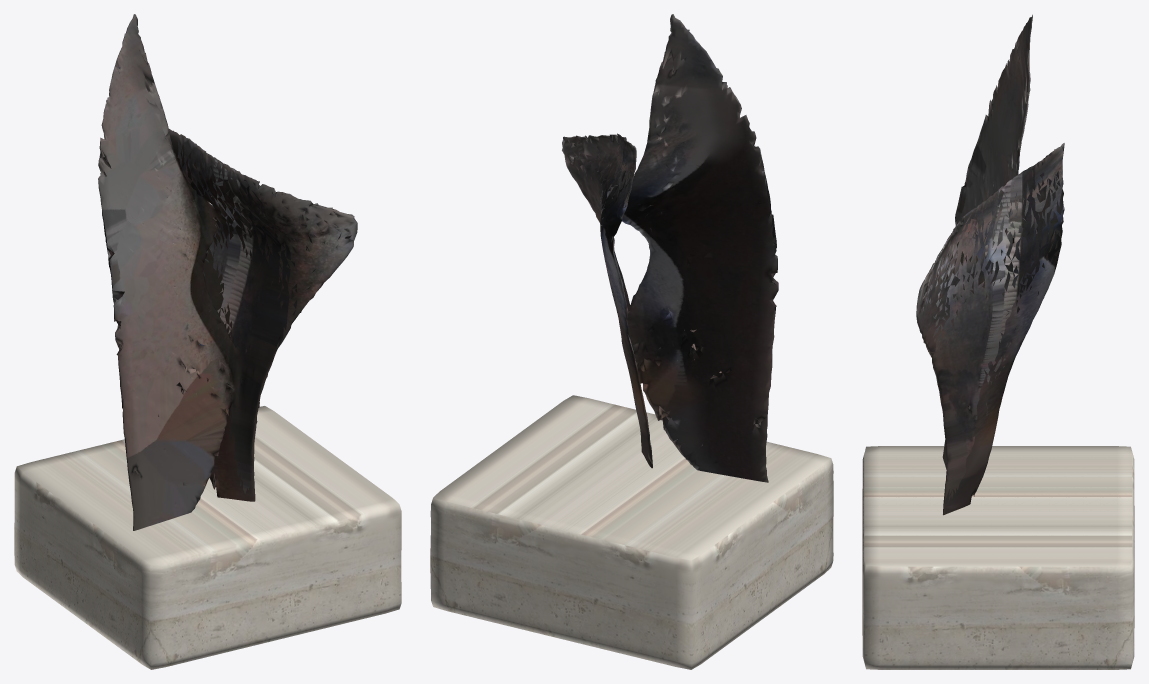
The model's file is hy3d-esc-044.glb.
3 renders of one model, left to right at view 1: azimuth 30°, elevation 25°; view 2: azimuth 150°, elevation 25°; view 3: azimuth 270°, elevation 25°, orthographic. The views are drawn at different scales.
Visible parts, largest first — view 1: world; view 2: world; view 3: world.
Part boxes in pixels (x1,y1,x2,y2): world: (14,14,401,669); world: (430,14,833,669); world: (862,14,1134,669).
Size of the model in its own units: 0.5828 by 1.26 by 0.5478.
1 material, 1 textured.
